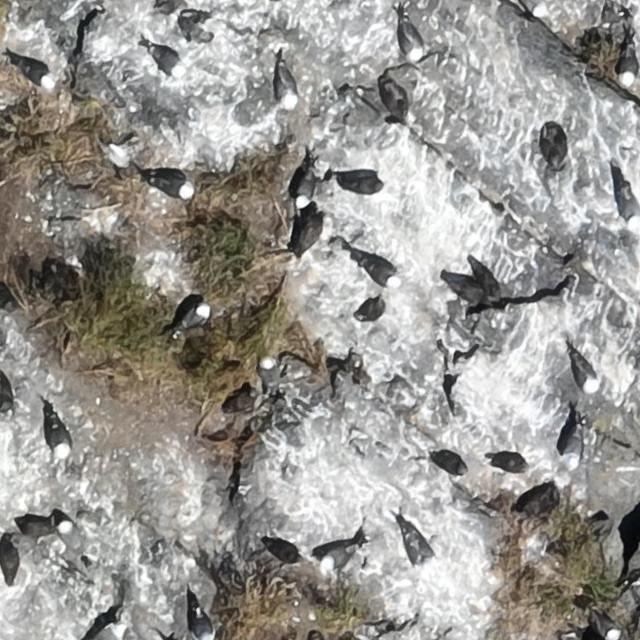umineko: (399, 522, 439, 572), (561, 420, 590, 470), (363, 260, 397, 286), (150, 48, 182, 74), (156, 177, 192, 199), (278, 67, 297, 106), (19, 62, 51, 85), (180, 304, 209, 329), (48, 419, 68, 455), (322, 546, 352, 569), (402, 26, 422, 60), (575, 360, 595, 391), (57, 520, 78, 549), (296, 175, 314, 208), (619, 51, 637, 83), (193, 612, 212, 640), (596, 615, 618, 638), (104, 621, 129, 638), (260, 358, 276, 383)
